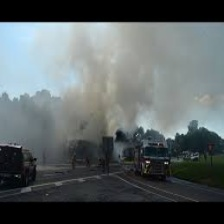smoke: (50, 22, 175, 135)
